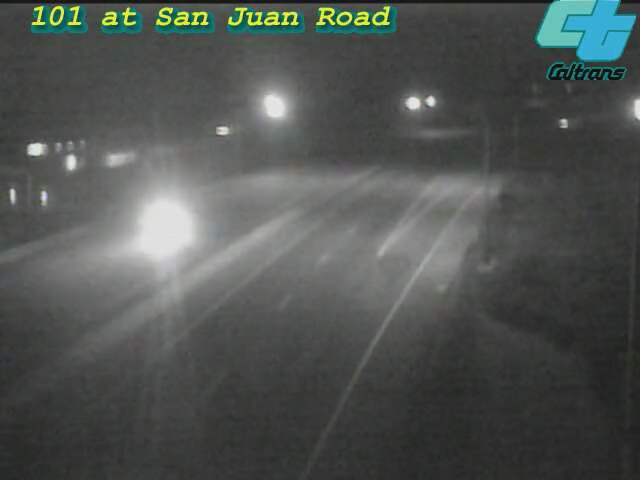vehicle: (125, 184, 205, 264)
